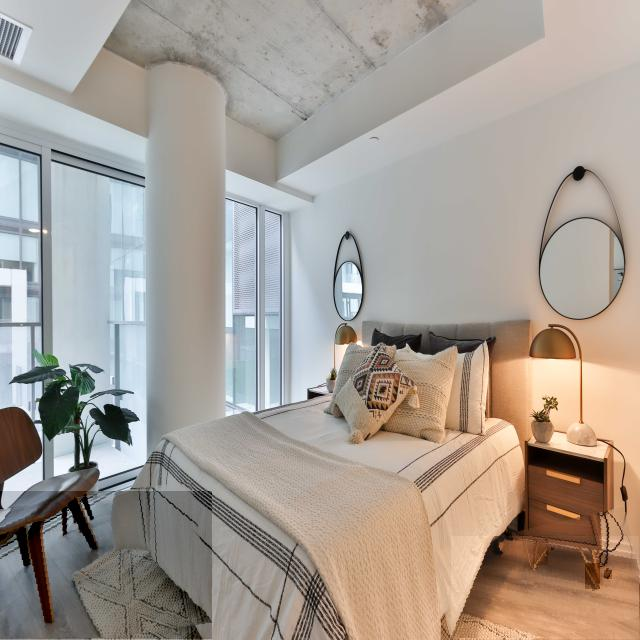floor: (0, 491, 212, 639), (452, 536, 640, 639), (533, 539, 548, 565), (585, 564, 600, 589), (604, 570, 612, 579), (552, 547, 554, 550), (600, 567, 602, 567)
